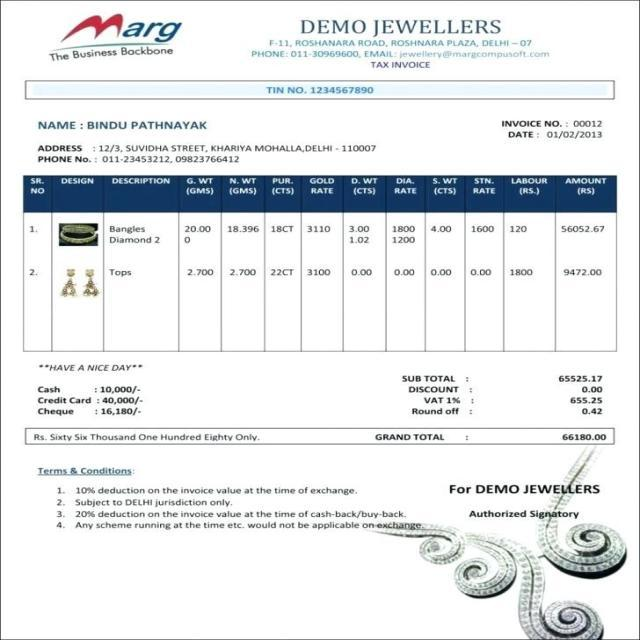ROI: (20, 174, 622, 333), (32, 461, 427, 535), (29, 112, 384, 169), (247, 12, 554, 74), (373, 368, 611, 445), (45, 10, 190, 66), (30, 358, 152, 423), (443, 479, 608, 522), (28, 428, 266, 444), (494, 116, 609, 144), (262, 80, 378, 99)
